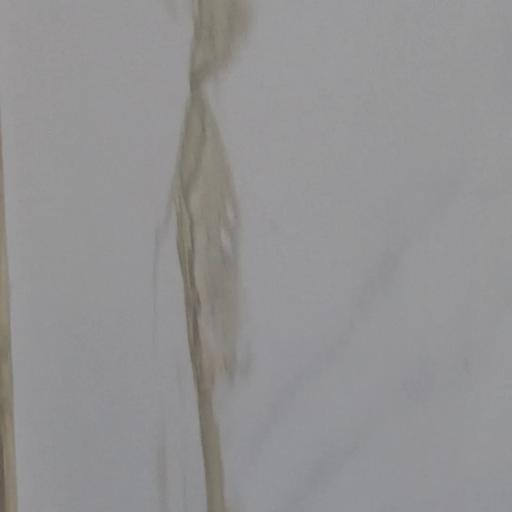stain: (143, 0, 290, 512), (264, 194, 468, 512)
